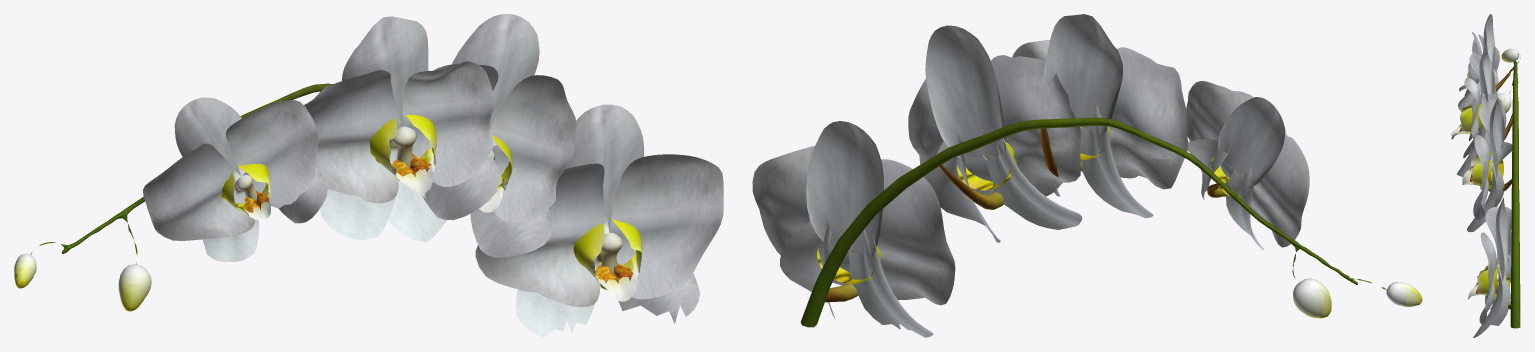
3 views of the same model, side by side, from view 1: azimuth 30°, elevation 25°; view 2: azimuth 150°, elevation 25°; view 3: azimuth 270°, elevation 25° (orthographic). The views are drawn at different scales.
Visible parts, largest first — view 1: e42292df; view 2: e42292df; view 3: e42292df.
Part boxes in pixels (bbox=[...]): e42292df: bbox=[14, 14, 723, 337]; e42292df: bbox=[752, 14, 1422, 337]; e42292df: bbox=[1451, 14, 1520, 337].
Bounding box in the file's own units: 0.1513 × 0.0767 × 0.0226.
2 materials, 2 textured.
